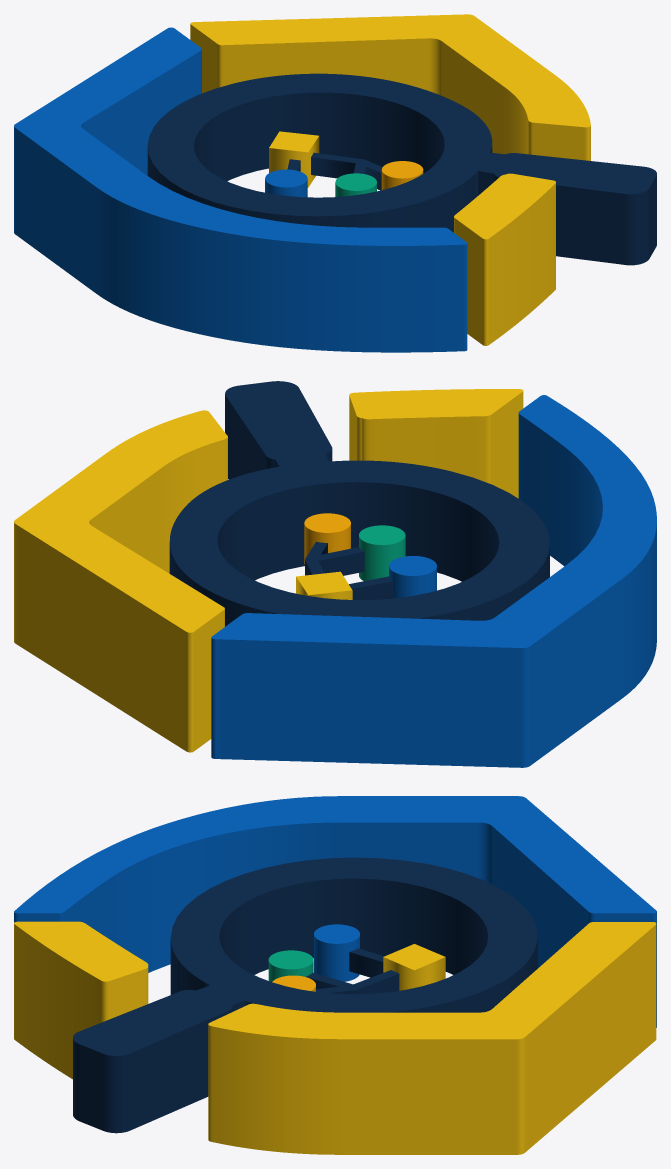
File: sidik-ml.glb
3 renders of one model, top to bottom at view 1: azimuth 30°, elevation 25°; view 2: azimuth 150°, elevation 25°; view 3: azimuth 270°, elevation 25°, orthographic. The views are drawn at different scales.
Parts seen in each view (by area): view 1: outer-blue, magnifier, outer-yellow, diamond, graph-lines-solid, node-blue, node-orange, node-green; view 2: outer-blue, outer-yellow, magnifier, graph-lines-solid, node-green, node-blue, node-orange, diamond; view 3: outer-yellow, magnifier, outer-blue, graph-lines-solid, node-blue, diamond, node-green.
Boxes of the visible parts, x1=… form: outer-blue: x1=14, y1=27, x2=467, y2=352; magnifier: x1=147, y1=73, x2=656, y2=265; outer-yellow: x1=190, y1=14, x2=590, y2=345; diamond: x1=269, y1=131, x2=319, y2=187; graph-lines-solid: x1=287, y1=152, x2=382, y2=190; node-blue: x1=265, y1=169, x2=307, y2=197; node-orange: x1=381, y1=161, x2=423, y2=190; node-green: x1=335, y1=173, x2=376, y2=196; outer-blue: x1=211, y1=395, x2=656, y2=767; outer-yellow: x1=14, y1=389, x2=523, y2=752; magnifier: x1=169, y1=381, x2=549, y2=626; graph-lines-solid: x1=305, y1=541, x2=392, y2=599; node-green: x1=359, y1=525, x2=405, y2=580; node-blue: x1=389, y1=556, x2=436, y2=598; node-orange: x1=304, y1=513, x2=350, y2=564; diamond: x1=296, y1=571, x2=352, y2=599; outer-yellow: x1=14, y1=921, x2=656, y2=1154; magnifier: x1=73, y1=857, x2=537, y2=1133; outer-blue: x1=14, y1=796, x2=656, y2=1027; graph-lines-solid: x1=306, y1=948, x2=399, y2=994; node-blue: x1=314, y1=924, x2=359, y2=981; diamond: x1=383, y1=944, x2=445, y2=990; node-green: x1=268, y1=950, x2=313, y2=981.
Bounding box in the file's own units: 0.2704 × 0.06 × 0.3023.
